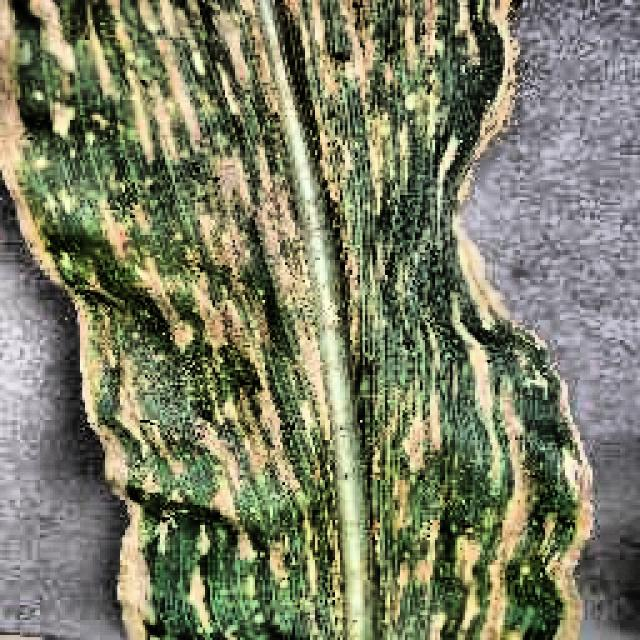gray_spot: (8, 0, 596, 640)
